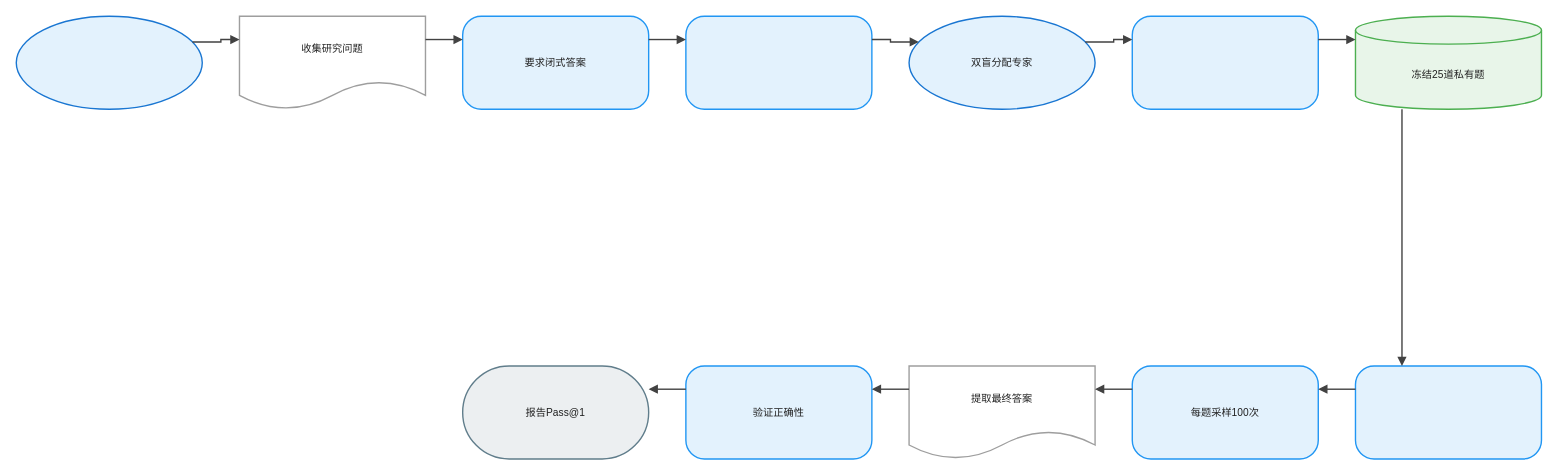
This 1559x476 diagram has some shape labels left out. The shapes that lost their labels are listed below. From the top down, each one's box as (x1, y1, x2, y2) in pixels, then its label:
(15, 15, 203, 110): 招募数学专家
(685, 15, 872, 110): 构建验证器
(1131, 15, 1319, 110): 从头独立求解
(1354, 365, 1542, 459): 运行研究智能体
